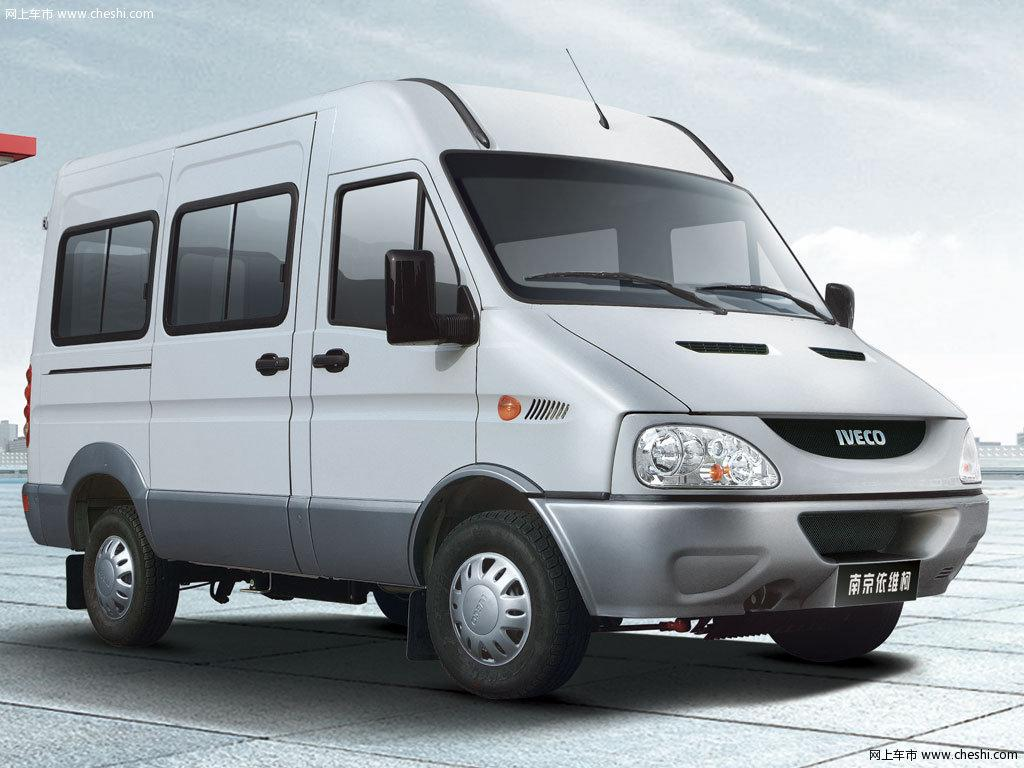midcar: (31, 78, 971, 689)
